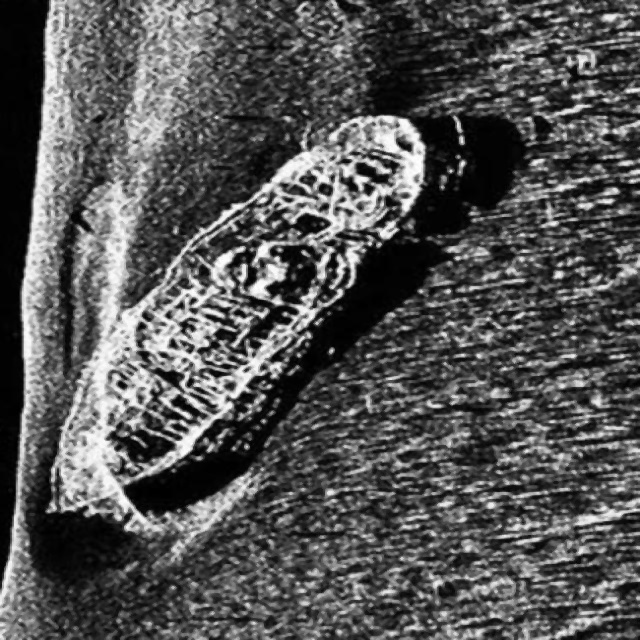Ship: (39, 102, 434, 580)
